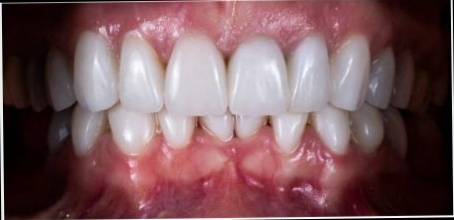Gingivitis: (136, 163, 223, 215), (235, 167, 321, 211)
